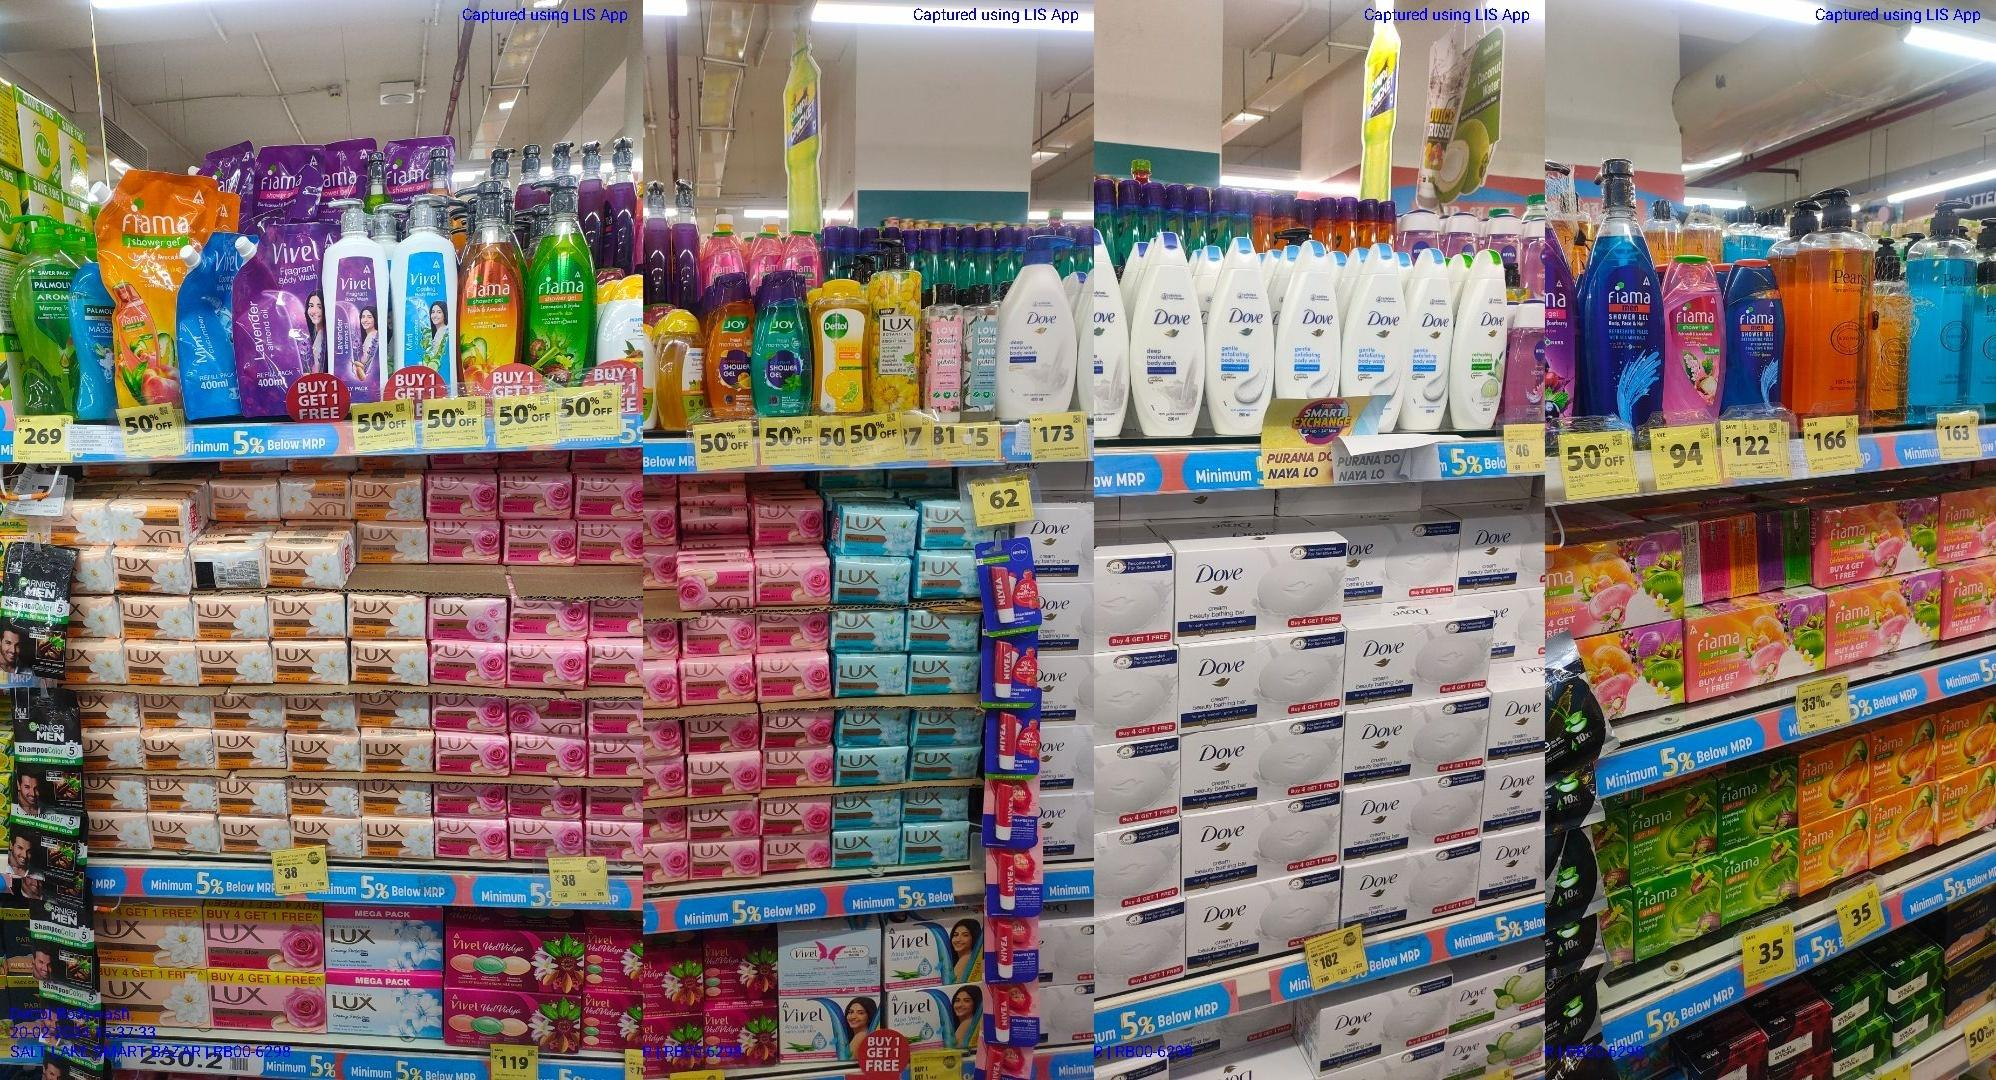Dettol_Bodywash_Refresh: (812, 277, 870, 412)
Dove_Deep_Moisture_Body_Wash_250ML: (1132, 233, 1205, 439)
Dove_Gentle_Exfoliating_Body_Wash_250ML: (1211, 235, 1267, 435), (1277, 238, 1340, 399), (1344, 245, 1402, 395), (1408, 246, 1449, 431)
Dove_Refreshing_Body_Wash_250ML: (1457, 249, 1500, 436)
Fiama_Shower_Gel_Patchouli_and_Macadamia_250ML: (1668, 253, 1725, 424)
Joy_Shower_Gel_Mandarin_and_Lemongrass_250ML: (709, 269, 753, 419)
Joy_Shower_Gel_Mint_and_Eucalyptus_250ML: (757, 270, 810, 418)
